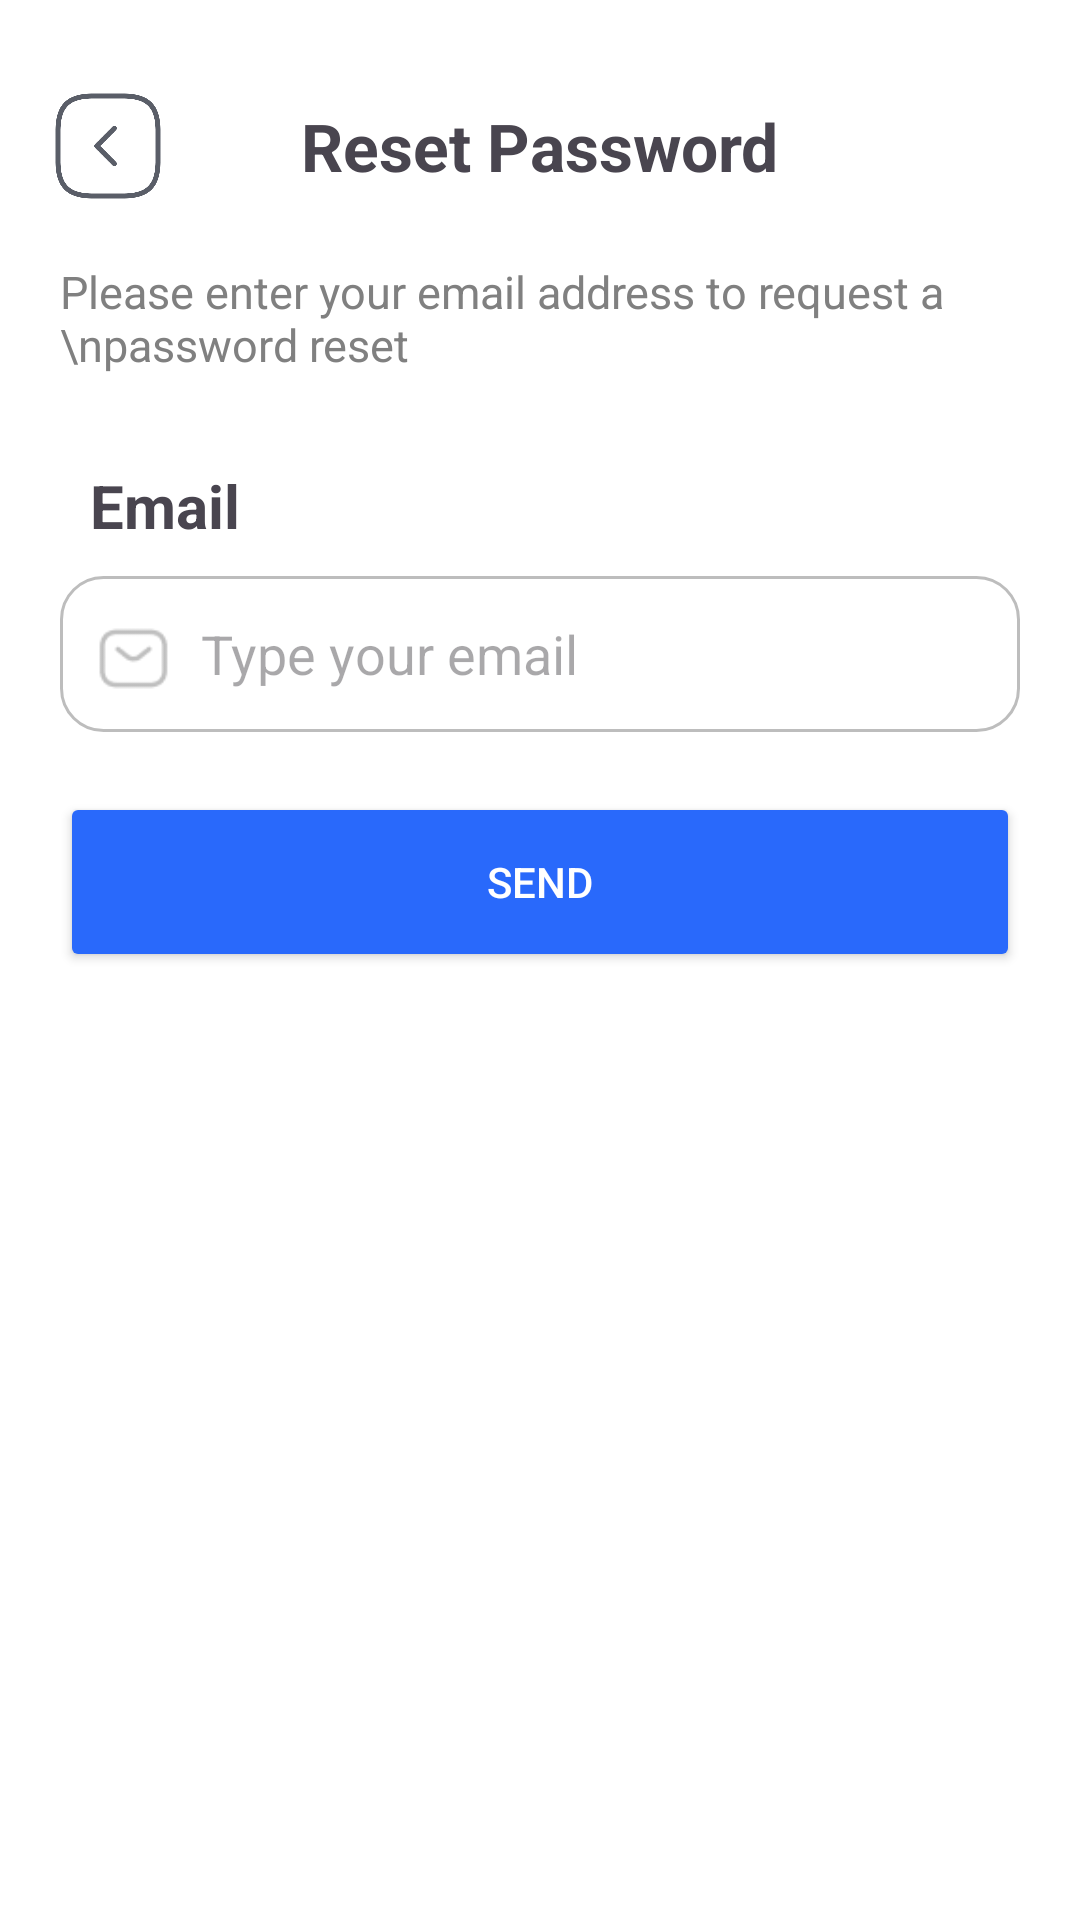

Named icons in this screenshot (1080 × 1920) and their bounding boxes, [x1=x1, y1=y1, x2=x2, y2=y2]:
arrow back: [x1=55, y1=93, x2=161, y2=199]
